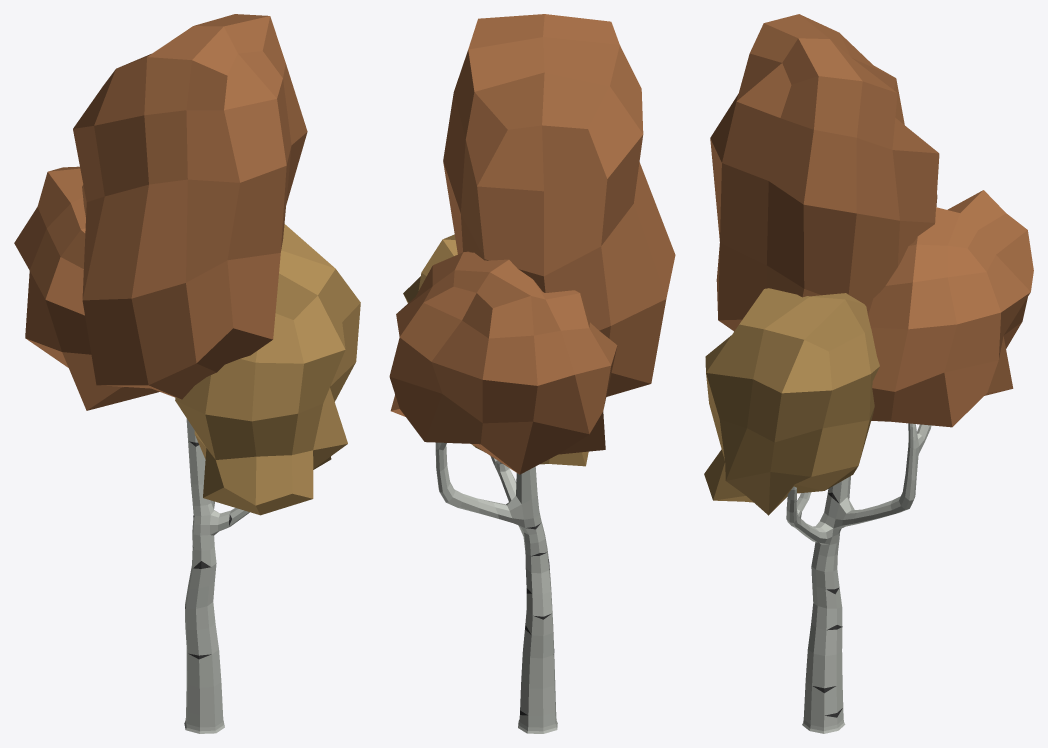
Rendered from BirchTree_Autumn_3.gltf.
3 renders of one model, left to right at view 1: azimuth 30°, elevation 25°; view 2: azimuth 150°, elevation 25°; view 3: azimuth 270°, elevation 25°, orthographic. The views are drawn at different scales.
Parts seen in each view (by area): view 1: BirchTree_Autumn_3; view 2: BirchTree_Autumn_3; view 3: BirchTree_Autumn_3.
Boxes of the visible parts, left/top/right/bottom form: BirchTree_Autumn_3: left=14, top=14, right=360, bottom=733; BirchTree_Autumn_3: left=389, top=14, right=675, bottom=733; BirchTree_Autumn_3: left=704, top=14, right=1033, bottom=733.
Bounding box in the file's own units: 1.57 × 4.09 × 1.77.
